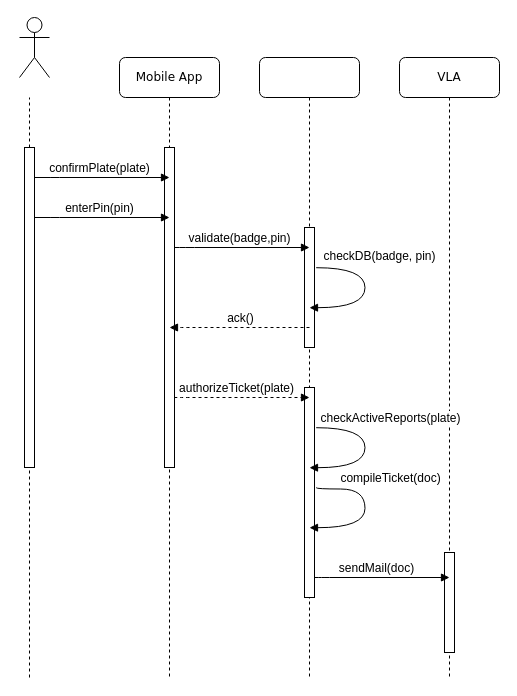
Image size: 517x696. Some labels were removed from this diagram. Here are the shapes that lost their labels. From the top down, the centre of each, then its label:
At (34,47): "Officer".
At (309,367): "Authority Server".
